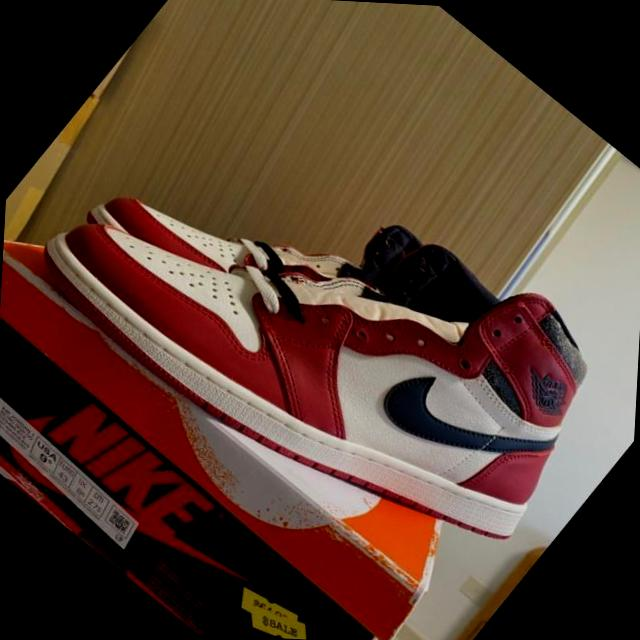nike_original_jordan: (9, 24, 640, 620), (70, 58, 447, 410)
